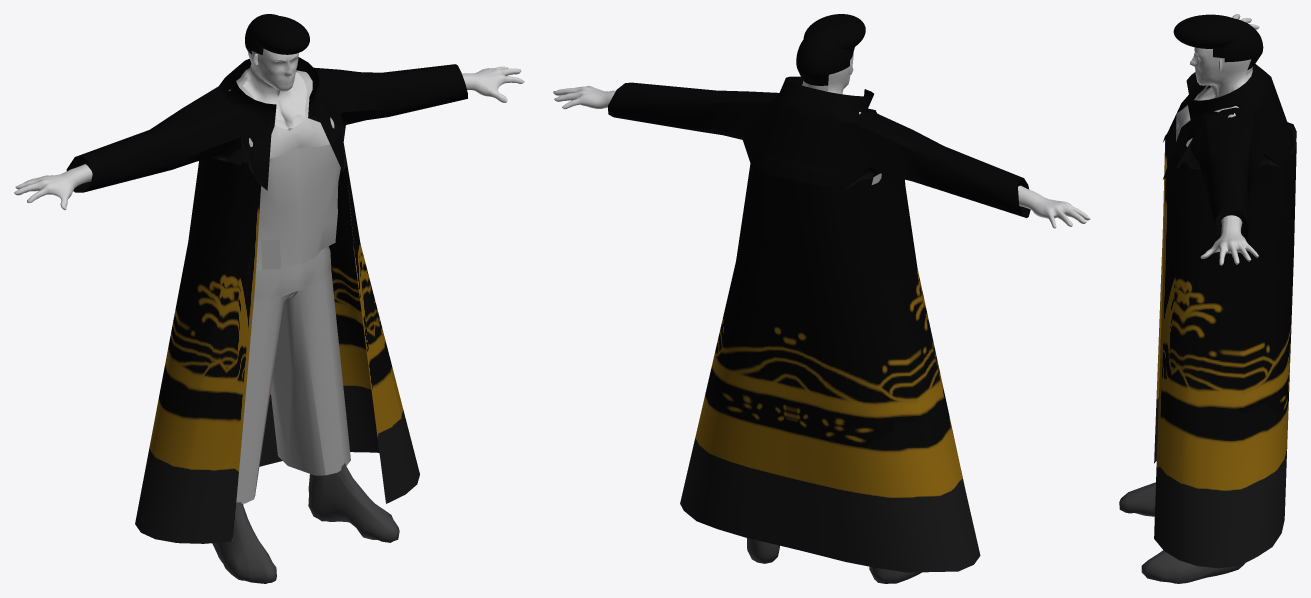
Rendered from shit_body.fbx.
3 renders of one model, left to right at view 1: azimuth 30°, elevation 25°; view 2: azimuth 150°, elevation 25°; view 3: azimuth 270°, elevation 25°, orthographic. The views are drawn at different scales.
Parts seen in each view (by area): view 1: yangky; view 2: yangky; view 3: yangky.
Part boxes in pixels (<box>): yangky: <box>14,14,524,583</box>; yangky: <box>553,14,1090,583</box>; yangky: <box>1119,14,1296,583</box>.
Bounding box in the file's own units: 200 × 196 × 60.45.
